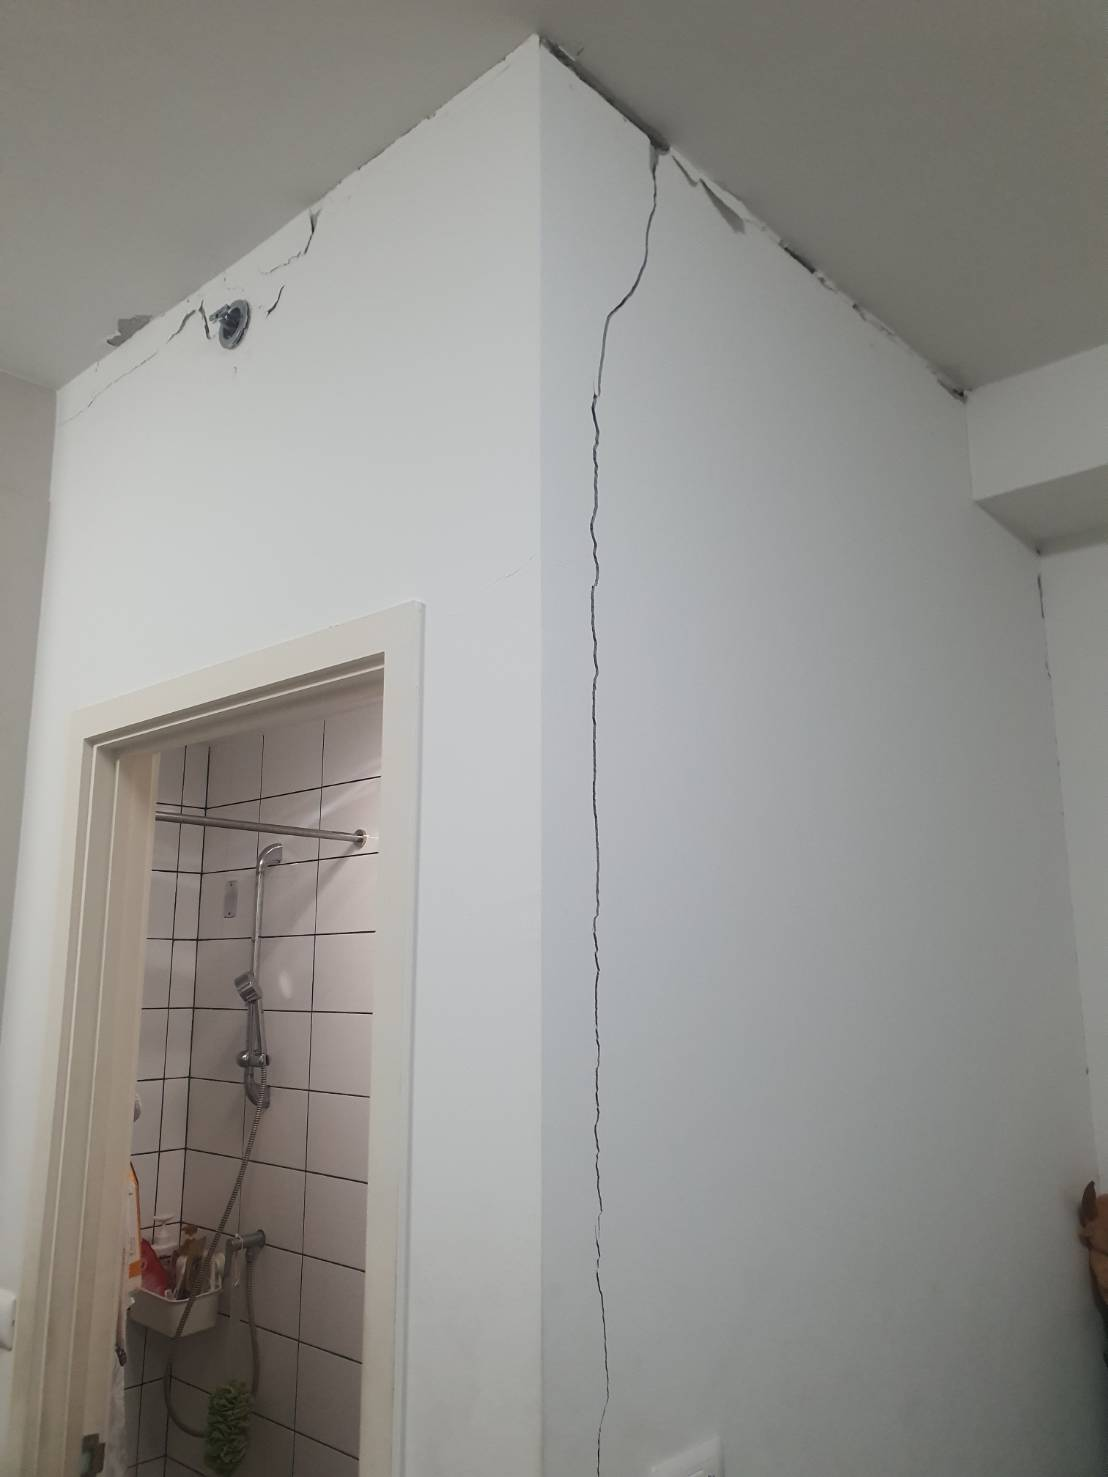Medium: (551, 86, 739, 1183)
